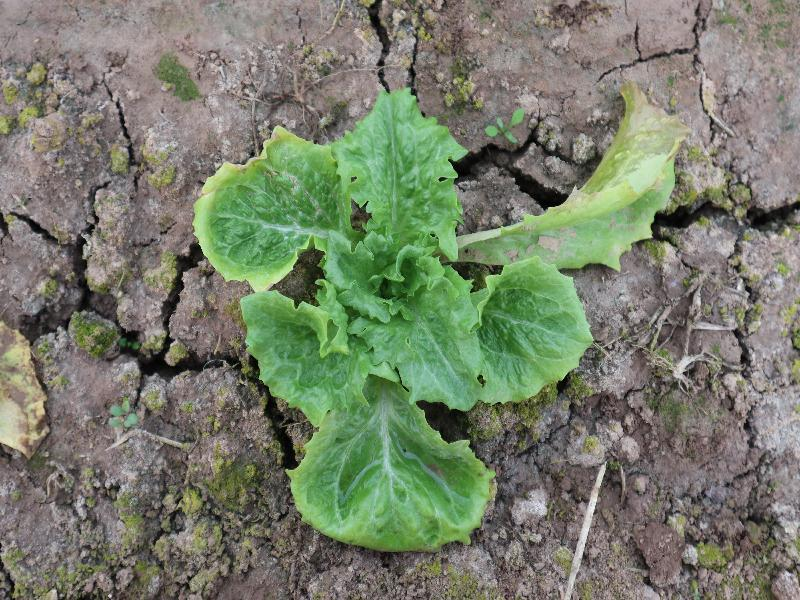lettuce: (191, 78, 691, 553)
